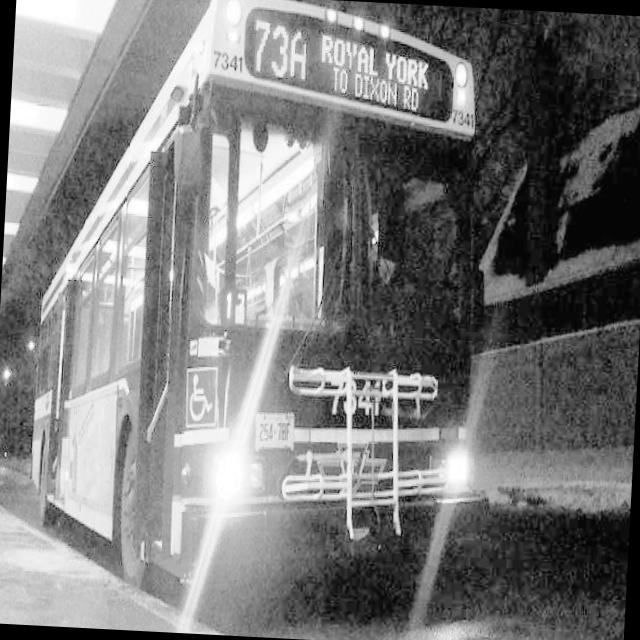Bus: (10, 0, 489, 627)
